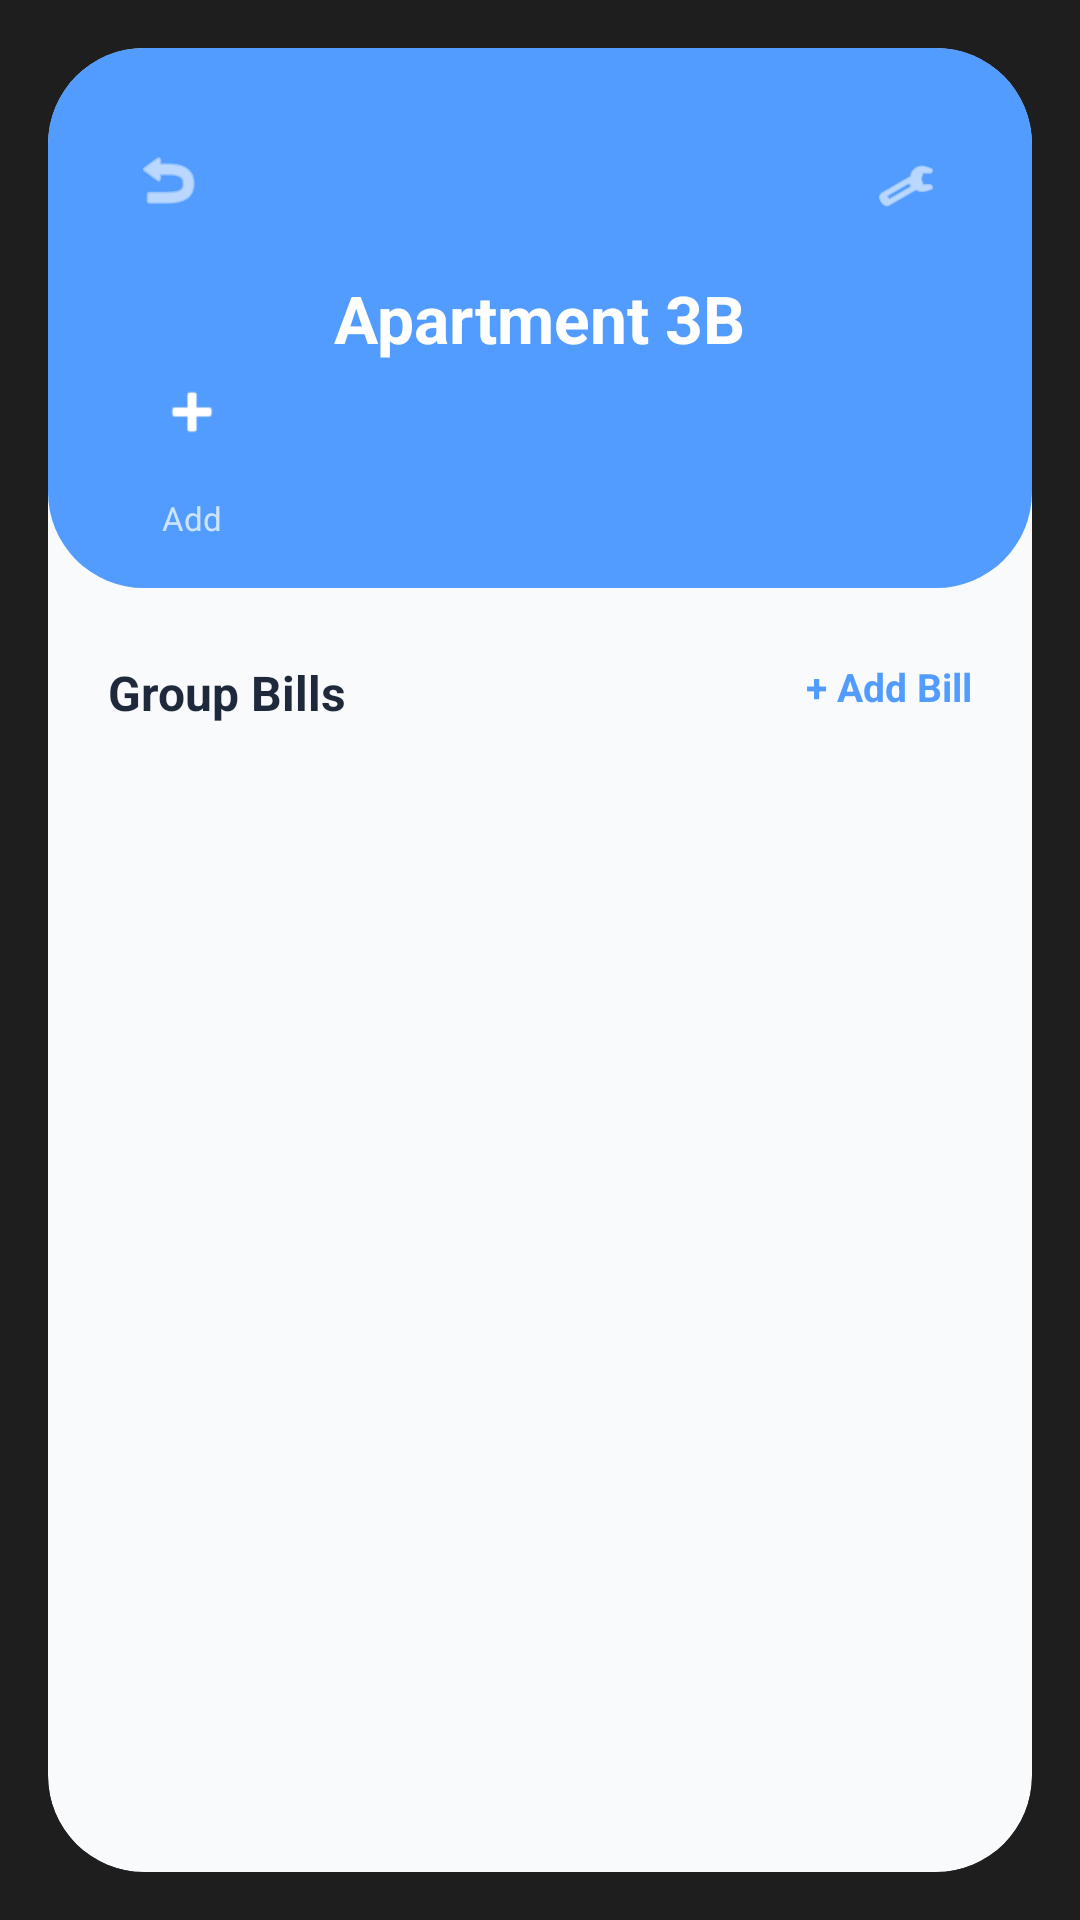

Icons on this 1080w x 1920h Android screen, each with its box as [x1,y1,x2,y2]:
manage: [879,165,933,207]
revert: [143,157,195,204]
